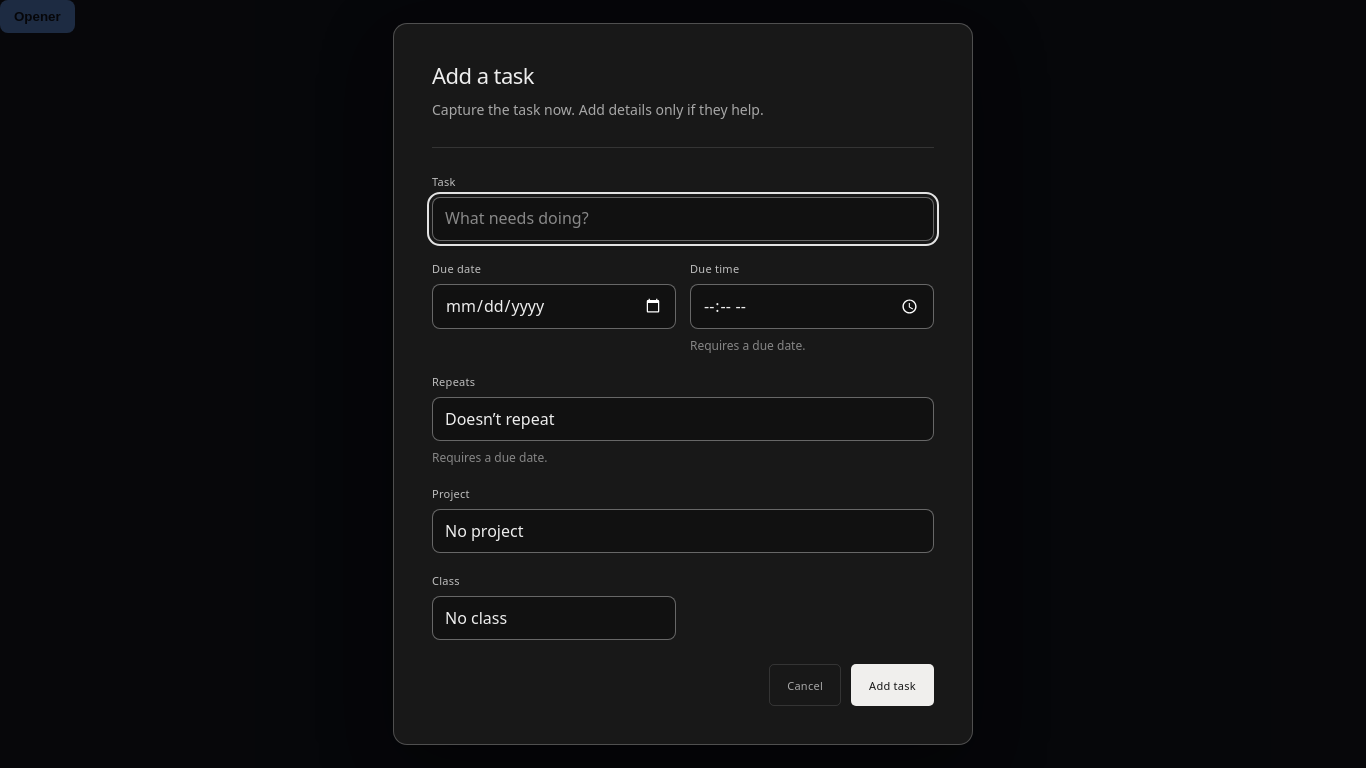
Test: TodoFormDialog create mode › associates validation with the first invalid field and guards a time without a date
The width and height of the screenshot is (1366, 768).
Type "09:15" into the time field labelled "Due time" at point(812, 306), box left=690, top=284, right=934, bottom=329
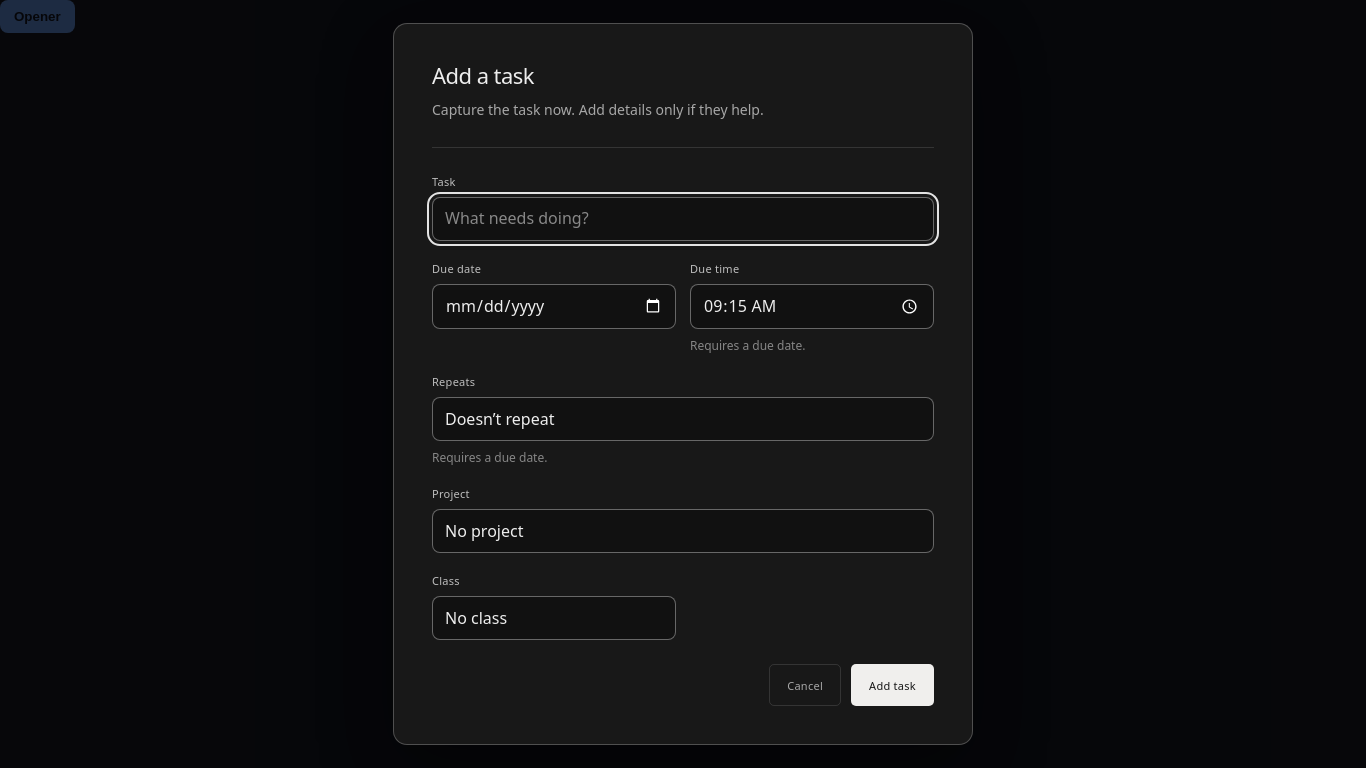
Click the button "Add task" at point(893, 685), box left=851, top=664, right=934, bottom=706
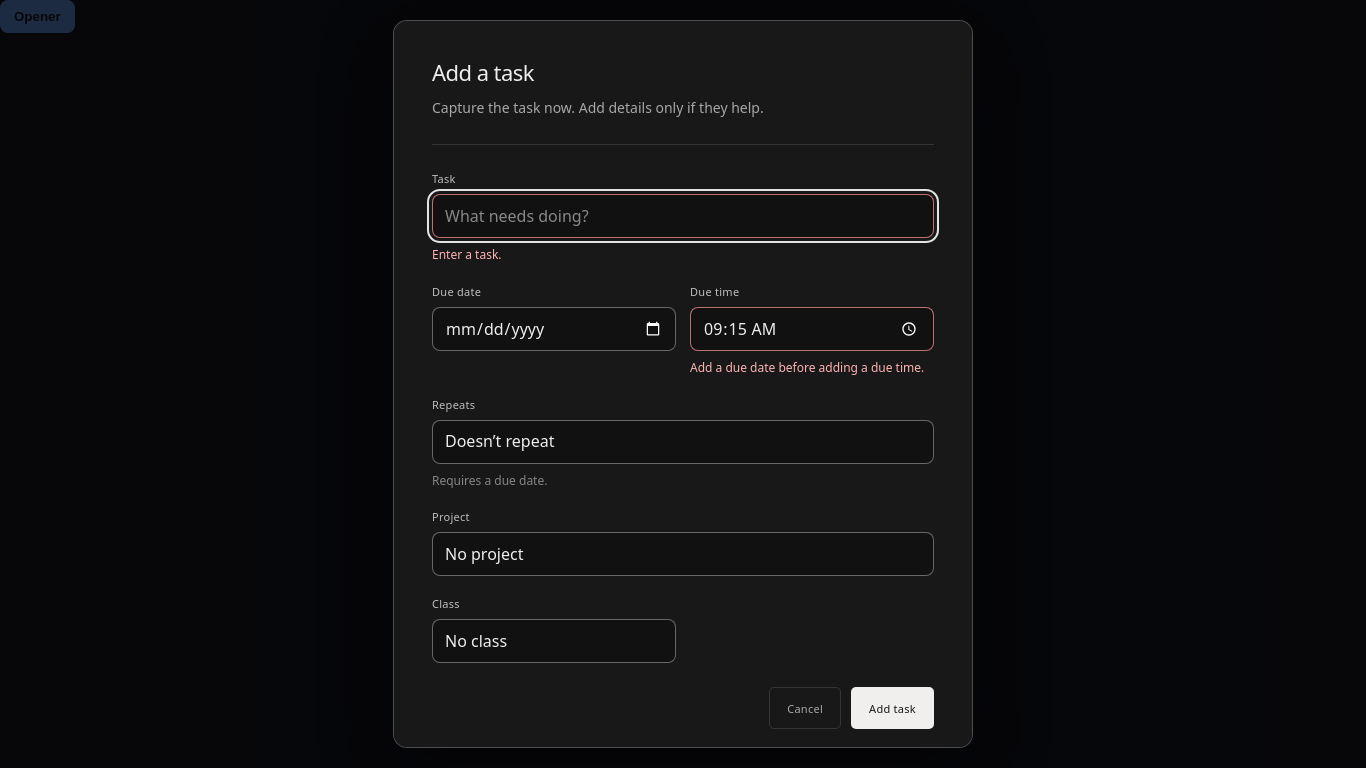
Expected: the field labelled "Task" is marked as invalid
Expected: the time field labelled "Due time" is marked as invalid, left=690, top=307, right=934, bottom=351
Type "Task" into the field labelled "Task" at point(683, 216), box left=432, top=194, right=934, bottom=238
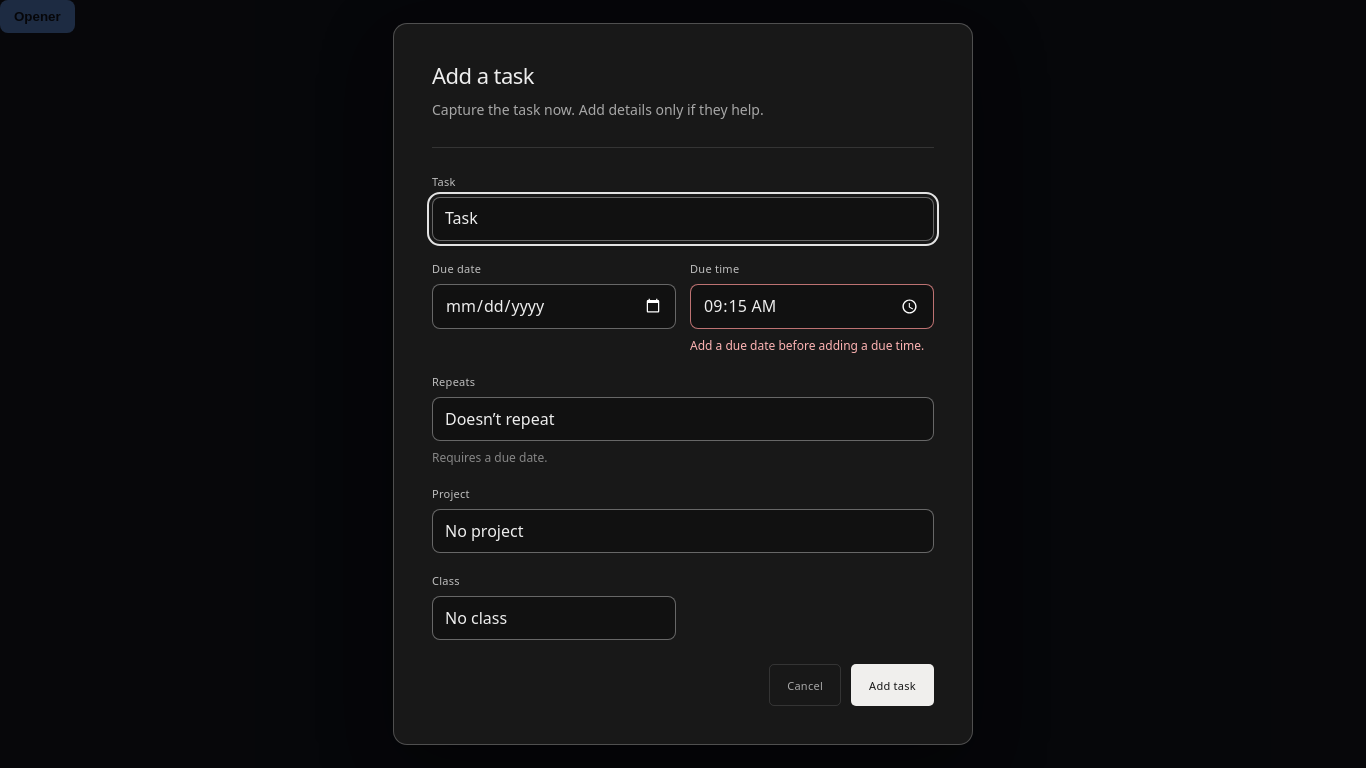
Expected: the field labelled "Task" is not marked as invalid, left=432, top=197, right=934, bottom=241
Type "2026-09-03" into the date field labelled "Due date" at point(554, 306), box left=432, top=284, right=676, bottom=329
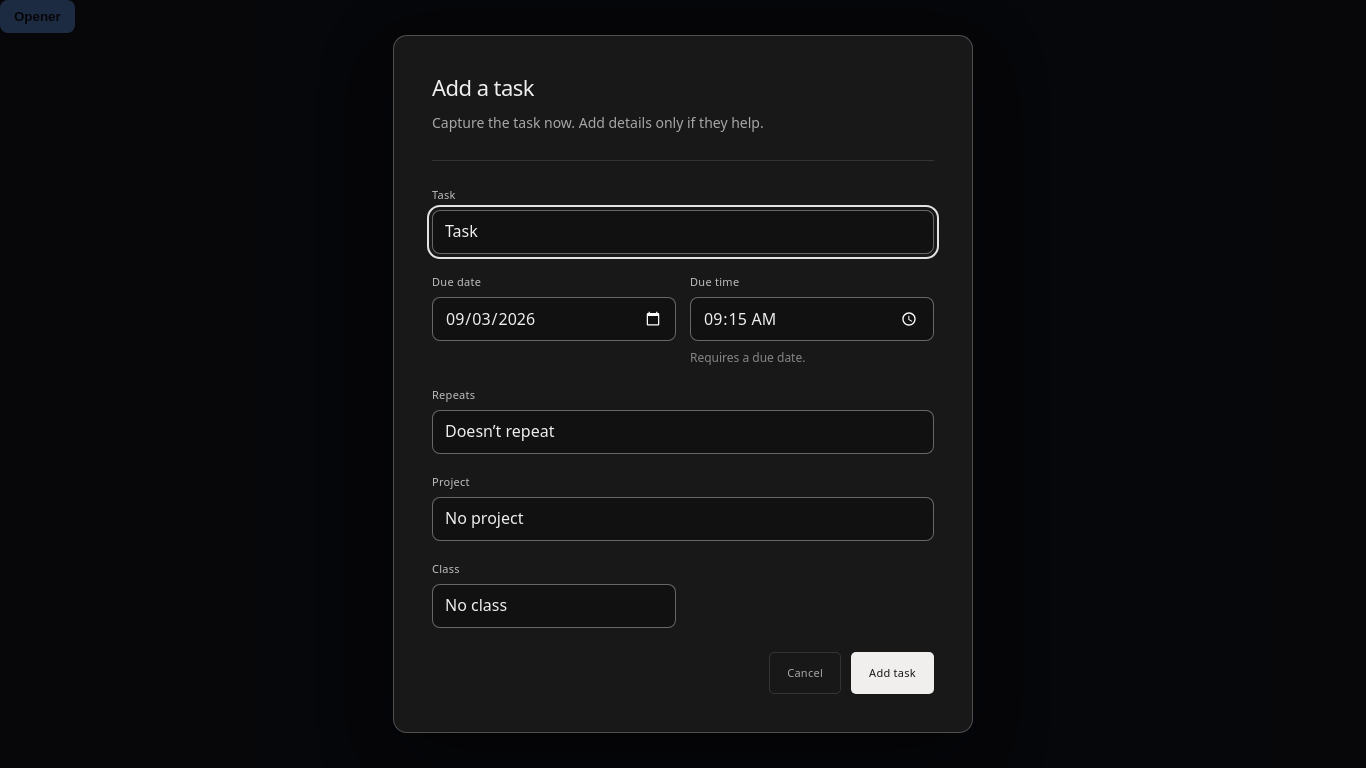
Clear the date field labelled "Due date" at point(554, 319), box left=432, top=296, right=676, bottom=341
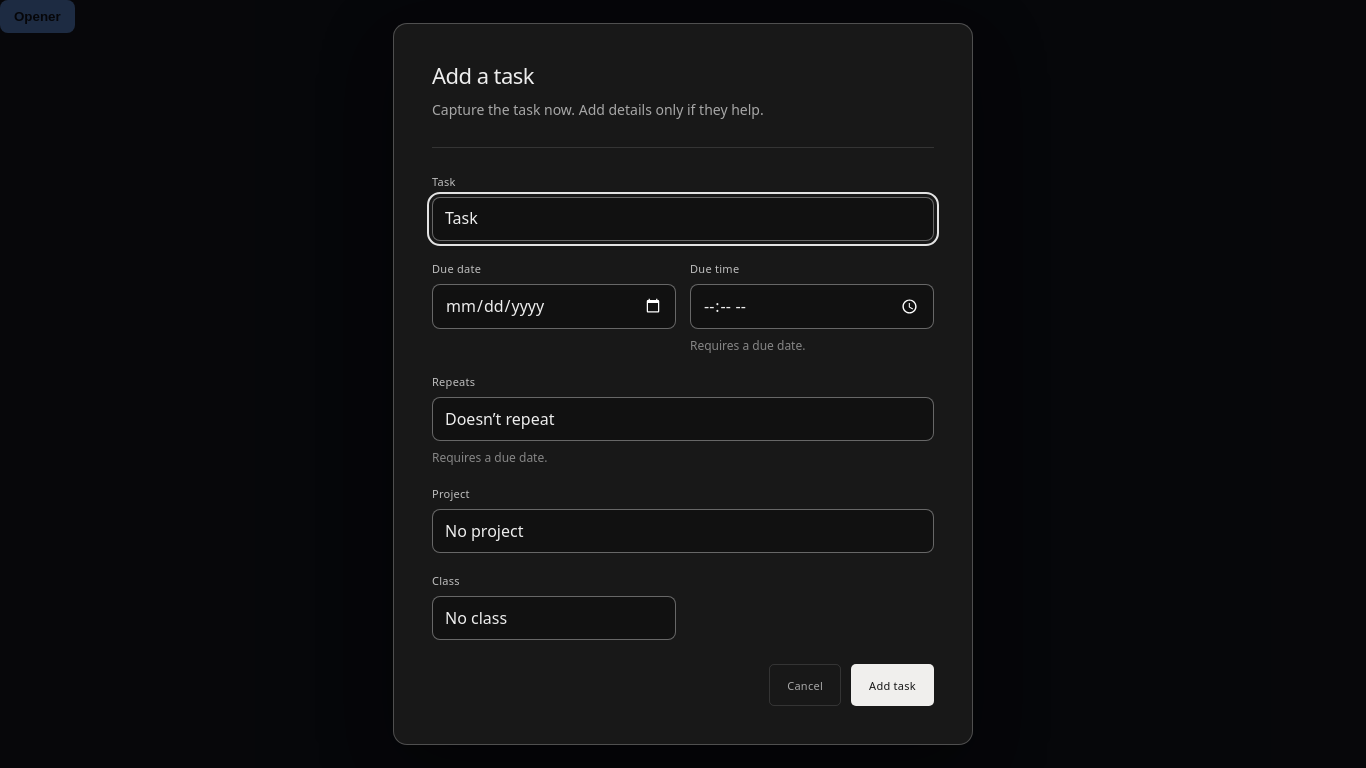
Expected: the time field labelled "Due time" is empty, left=690, top=284, right=934, bottom=329
